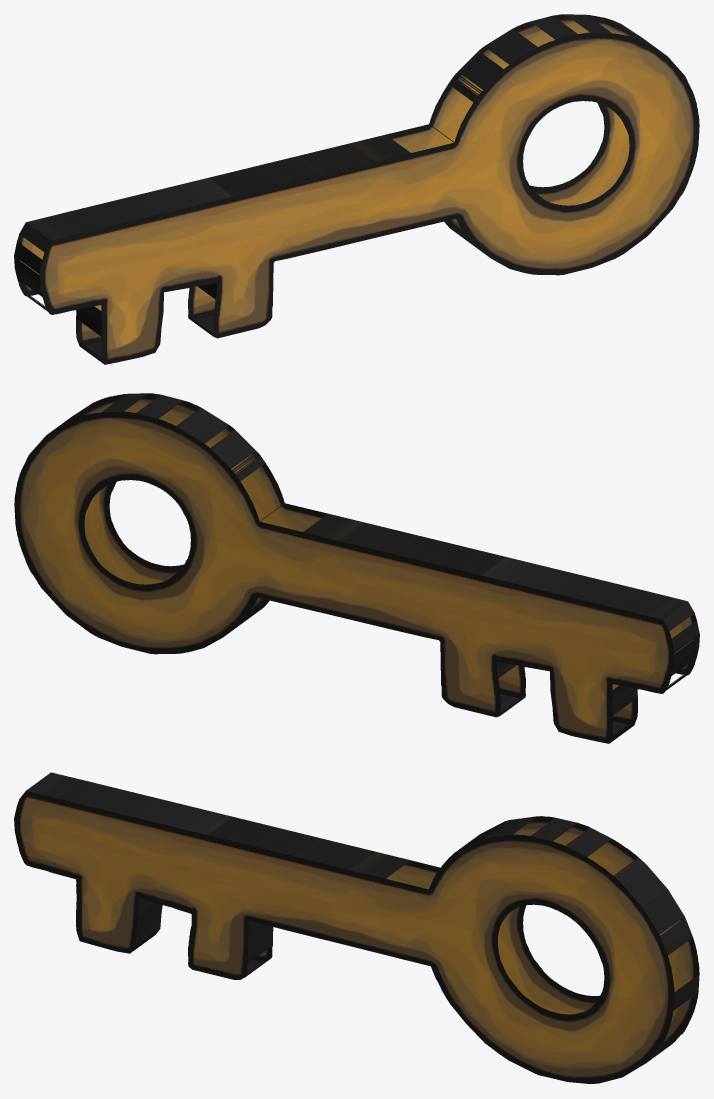
The model's file is key1.fbx.
The picture shows the model from 3 angles, top to bottom: view 1: azimuth 30°, elevation 25°; view 2: azimuth 150°, elevation 25°; view 3: azimuth 330°, elevation 25°; orthographic projection.
Parts seen in each view (by area): view 1: key2; view 2: key2; view 3: key2.
Boxes of the visible parts, bbox=[...] form: key2: bbox=[14, 14, 699, 364]; key2: bbox=[14, 393, 699, 743]; key2: bbox=[14, 772, 699, 1083].
Bounding box in the file's own units: 97.52 × 33.48 × 6.45.
1 material, 1 textured.
